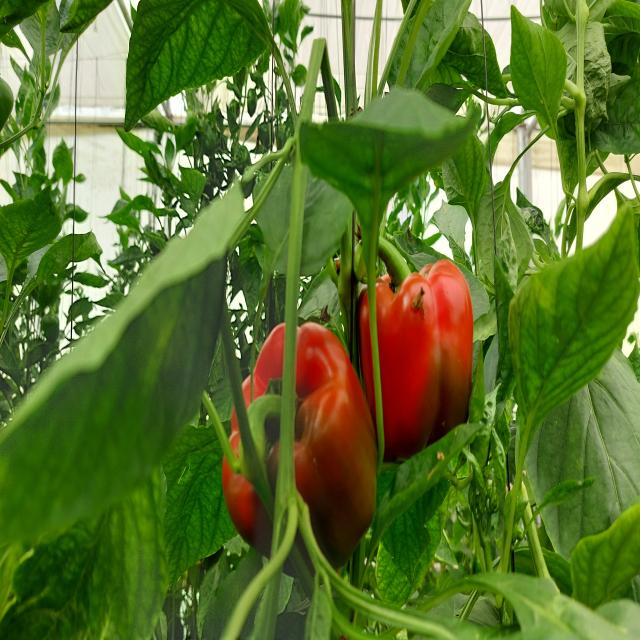Red-Ready-to-Harvest: (212, 302, 371, 595), (357, 268, 485, 479)
